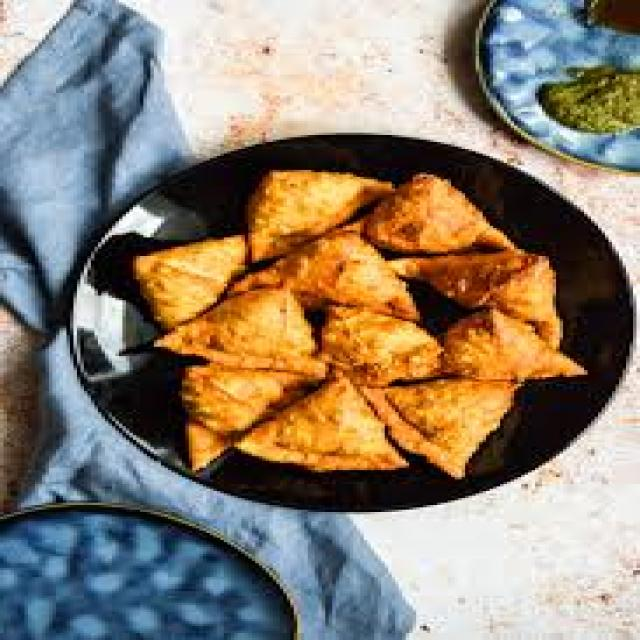SAMOSA: (241, 372, 402, 468), (402, 247, 556, 344), (385, 379, 514, 477), (248, 170, 388, 258), (280, 230, 416, 317), (185, 363, 297, 468), (168, 289, 315, 368), (364, 175, 514, 247), (441, 310, 581, 379), (136, 237, 241, 328), (322, 305, 437, 382)
